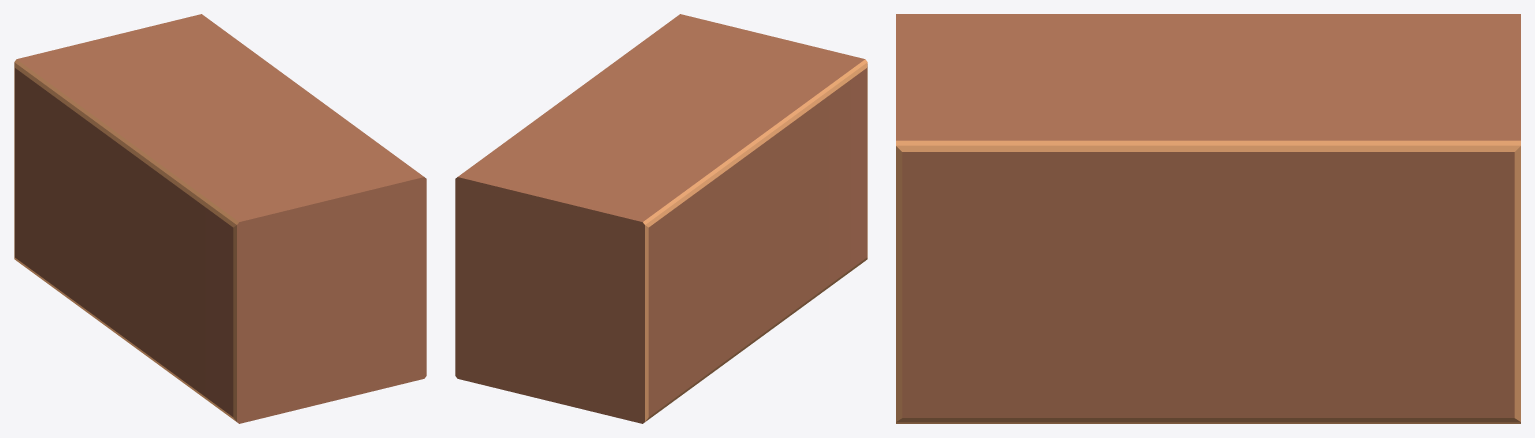
File: brick.fbx
The picture shows the model from 3 angles, left to right: view 1: azimuth 30°, elevation 25°; view 2: azimuth 150°, elevation 25°; view 3: azimuth 270°, elevation 25°; orthographic projection. The views are drawn at different scales.
Parts seen in each view (by area): view 1: Cube; view 2: Cube; view 3: Cube.
Boxes of the visible parts, box(x1,y1,x2,y2) form: Cube: box(14, 14, 426, 423); Cube: box(455, 14, 867, 423); Cube: box(896, 14, 1520, 423).
Bounding box in the file's own units: 100 × 100 × 200.
